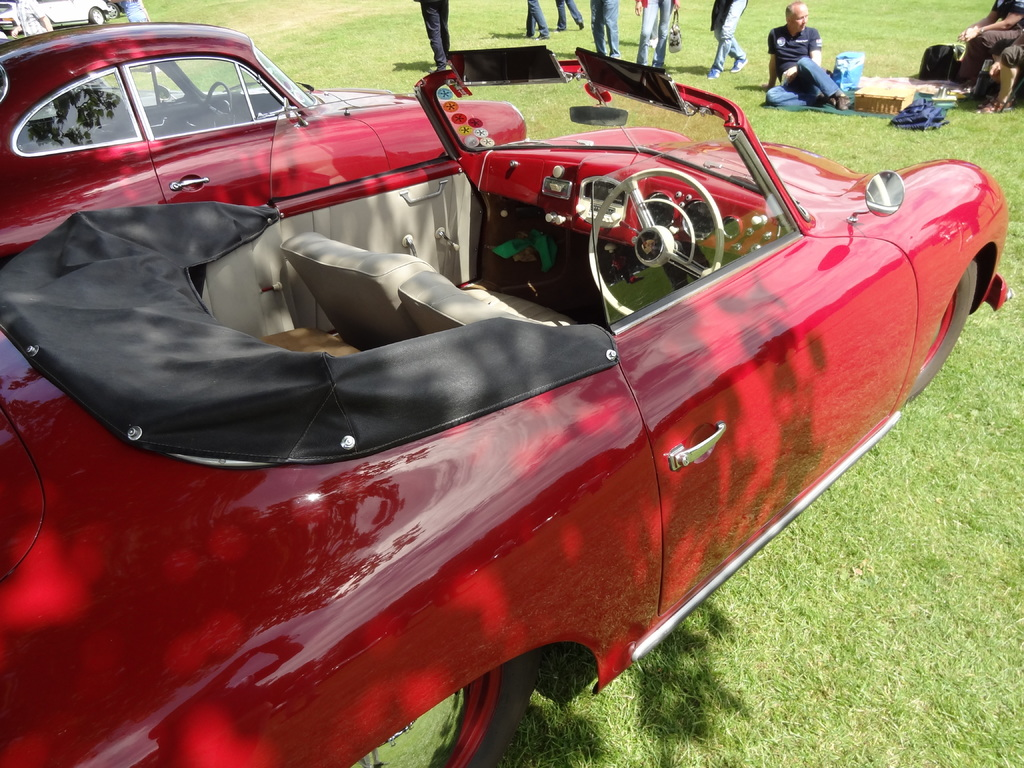Car: (16, 55, 993, 742), (0, 19, 535, 255), (0, 0, 144, 37)
